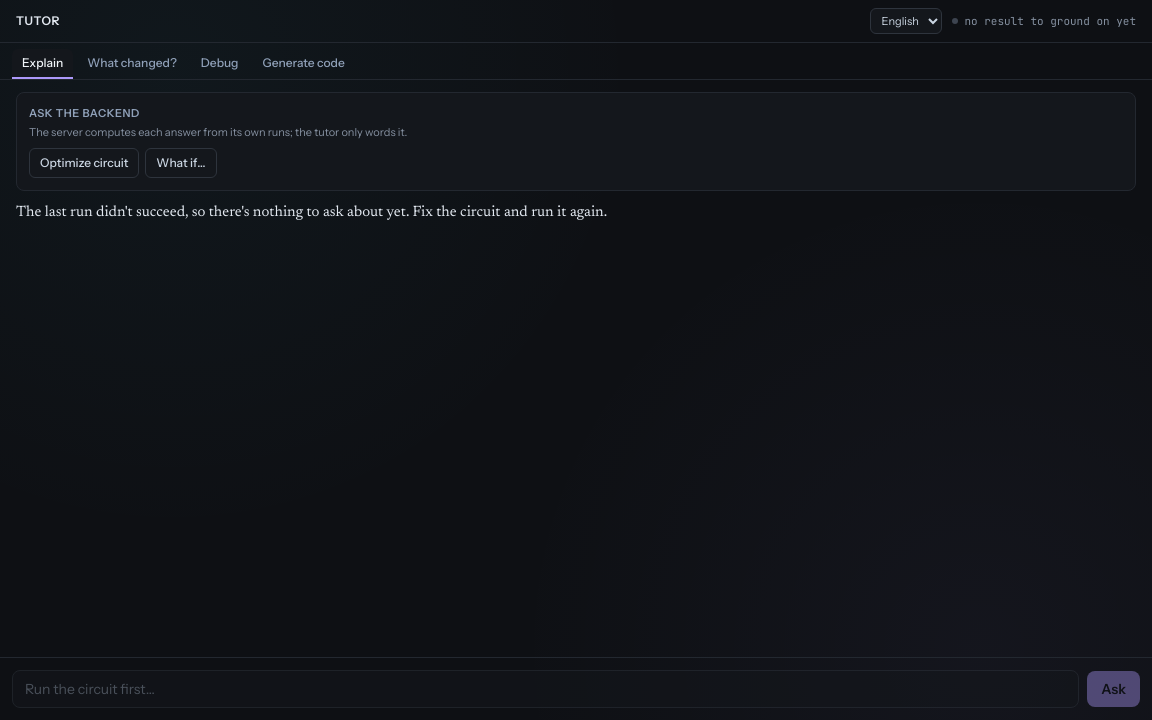
Test: Optimize circuit › a verified shorter circuit shows the server’s counts, rewrites and checker verdict, and applying it is one undo step
Click the button "Optimize circuit" at (84, 163), box [29,148,139,178]
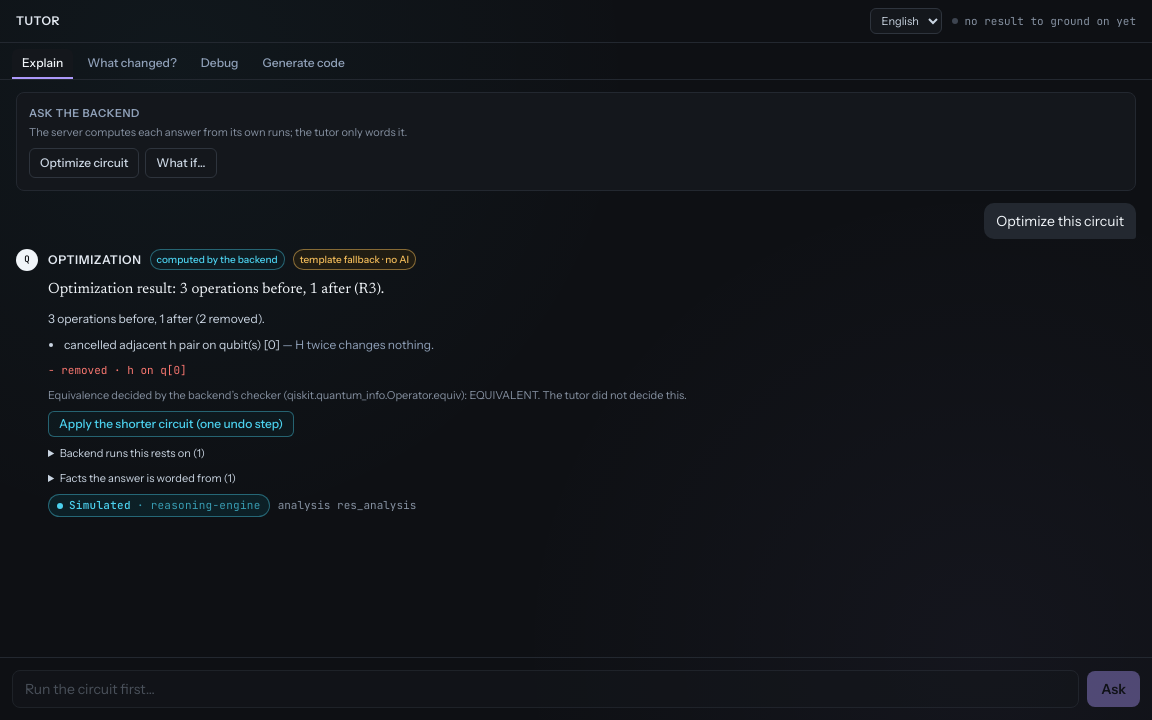
Result: the element with test id "optimization-view" shows "3 operations before, 1 after (2 removed)" at [48,311,265,326]
Result: the element with test id "optimization-view" shows "cancelled adjacent h pair" at [64,337,280,352]
Result: the element with test id "optimization-view" shows "− removed · h on q[0]" at [48,311,687,437]
Click the button "Apply the shorter circuit (one undo step)" at (171, 424), box [48,411,294,437]
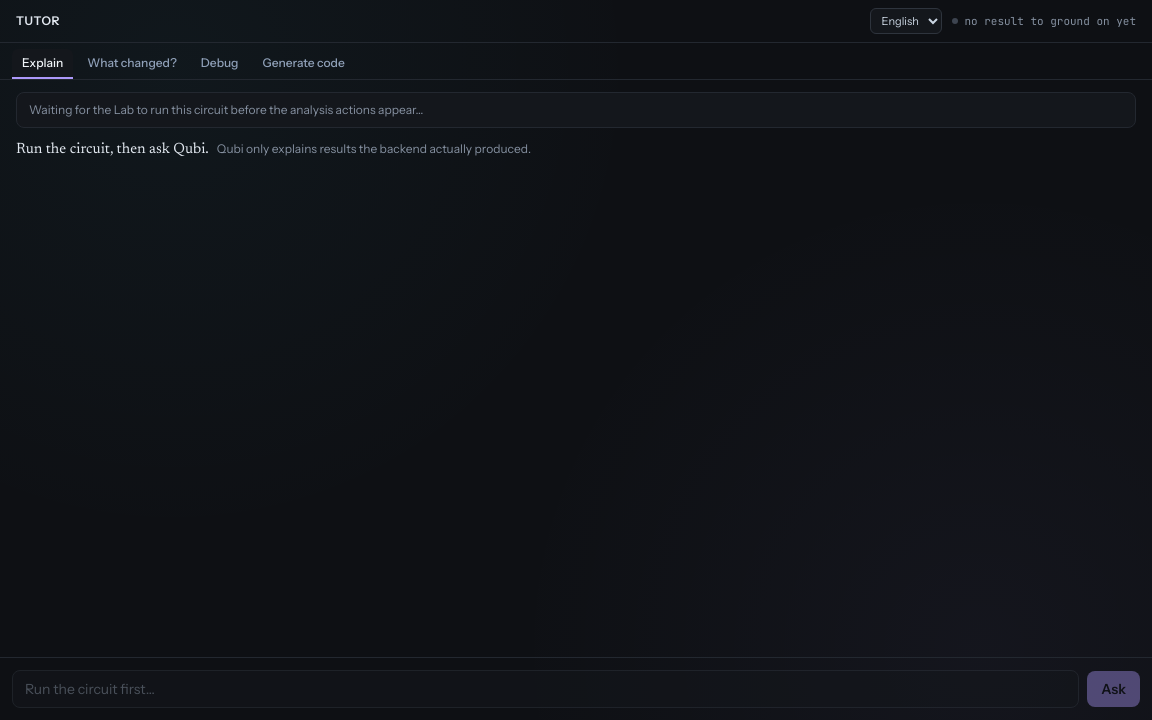
Result: the element with test id "reasoning-card" is gone
